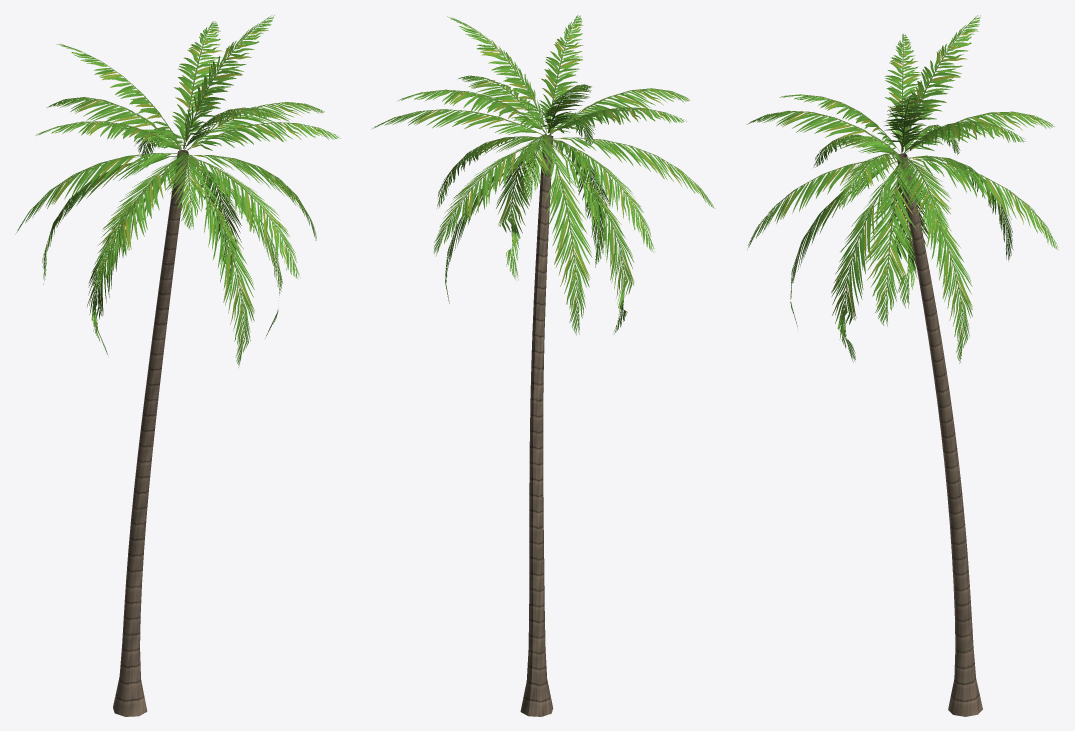
File: palma_bl_c.glb
3 views of the same model, side by side, from view 1: azimuth 30°, elevation 25°; view 2: azimuth 150°, elevation 25°; view 3: azimuth 270°, elevation 25° (orthographic). The views are drawn at different scales.
Parts seen in each view (by area): view 1: palma_bl_c; view 2: palma_bl_c; view 3: palma_bl_c.
Part boxes in pixels (left/top/right/bottom): palma_bl_c: left=15, top=15, right=340, bottom=716; palma_bl_c: left=371, top=15, right=715, bottom=716; palma_bl_c: left=746, top=15, right=1058, bottom=716.
Bounding box in the file's own units: 4.78 × 10 × 4.28.
Materials: 2 (2 with a texture image).
